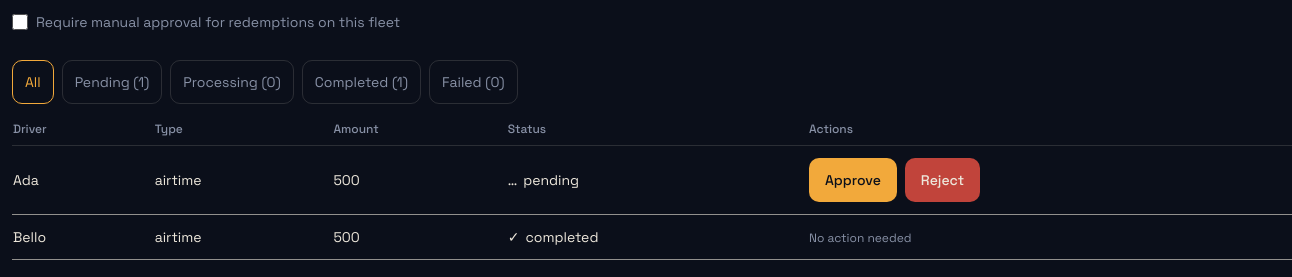
Test case: RedemptionsClient › filters rows by status tab and shows per-status counts
This screenshot has width=1292, height=277.
Click the tab "Pending (1)" at (112, 82), box [62,60,162,104]
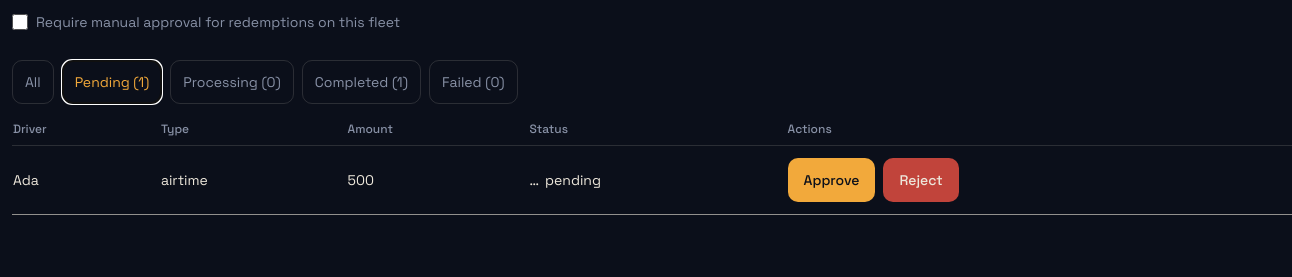
Check: the text "Ada" is shown, box [12,146,160,214]
Check: the text "Bello" is gone
